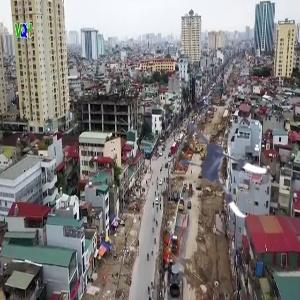drone: (169, 111, 281, 223)
